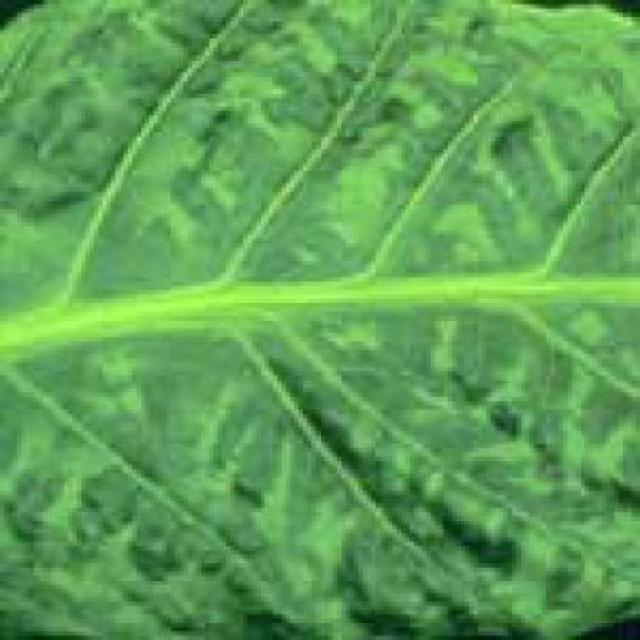Healthy Leaf: (12, 12, 631, 631)
